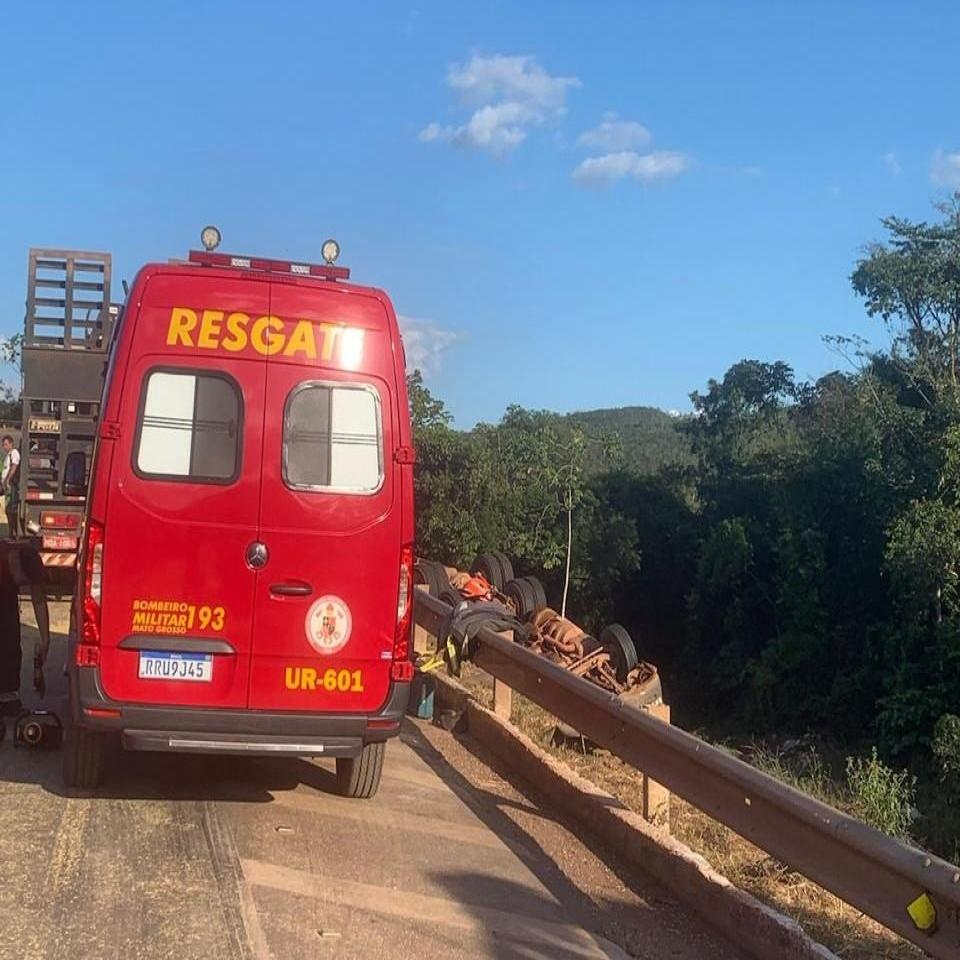viatura: (68, 227, 413, 797)
